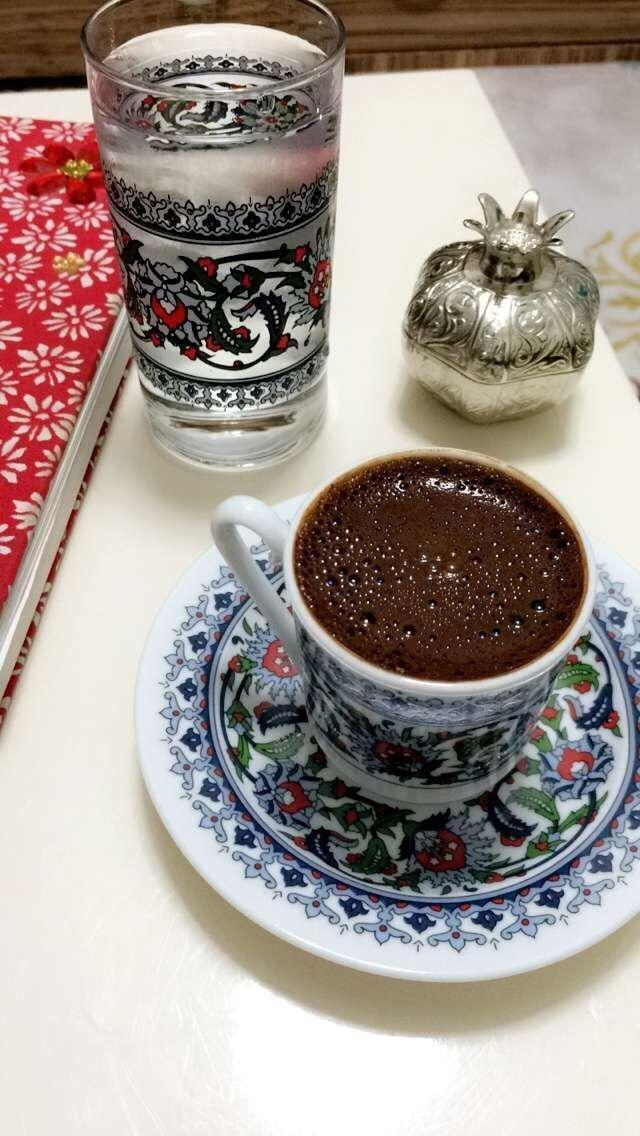cup-handle: (208, 444, 596, 807)
glass-normal: (79, 0, 347, 473)
